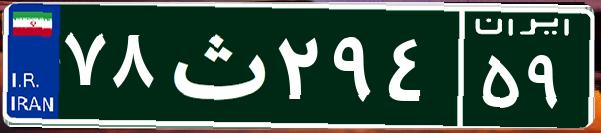2: (273, 28, 330, 110)
4: (385, 28, 445, 110)
5: (475, 38, 525, 113)
7: (57, 26, 110, 107)
8: (110, 28, 158, 105)
9: (330, 28, 385, 110), (525, 38, 570, 115)
ث: (158, 15, 273, 115)
